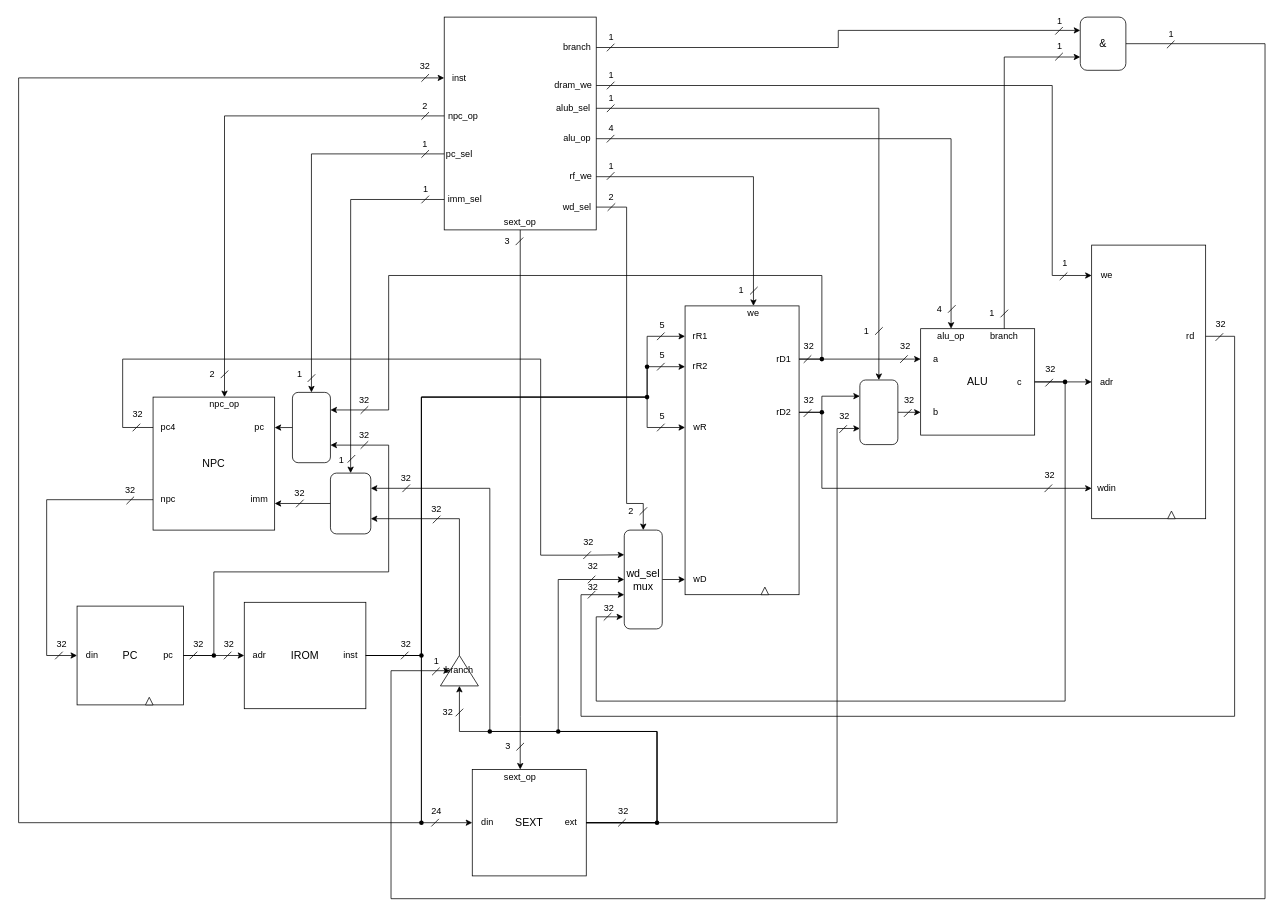
Some shapes in this 1284 by 918 pixel diagram are drawn without their labels. Each missing label, with the box of its shape:
alu_sel mux: (859, 379, 898, 445)
CONTROL: (443, 16, 596, 230)
DRAM: (1091, 244, 1206, 519)
imm_sel mux: (330, 472, 371, 534)
pc_sel mux: (292, 392, 330, 463)
RF: (684, 305, 799, 595)
